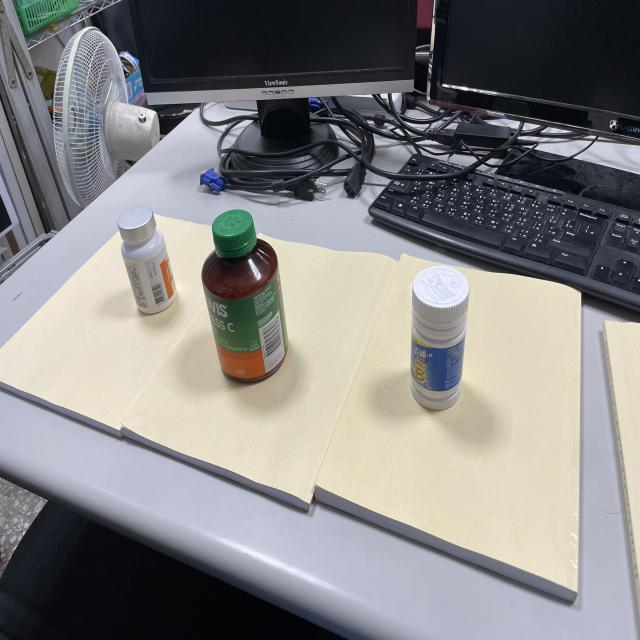Medicine-Jar: (194, 216, 293, 377), (398, 255, 478, 417), (107, 210, 182, 322)
